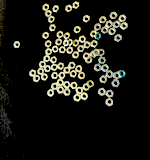nut: (112, 80, 121, 88), (106, 90, 115, 98), (106, 98, 114, 107), (100, 75, 108, 84), (102, 64, 110, 73), (94, 64, 103, 72), (87, 80, 95, 89), (119, 15, 127, 23), (121, 22, 129, 30), (115, 34, 123, 42), (114, 21, 122, 29), (110, 12, 118, 20), (106, 20, 114, 28), (100, 16, 108, 24), (91, 40, 99, 48), (119, 70, 127, 78), (99, 88, 107, 96), (99, 57, 107, 65), (83, 84, 91, 92), (81, 93, 89, 101), (76, 87, 84, 95), (74, 94, 82, 102), (78, 72, 86, 80), (70, 70, 78, 78), (71, 82, 79, 90), (57, 79, 65, 87), (33, 75, 41, 83), (107, 70, 114, 79), (73, 1, 80, 10), (109, 28, 117, 35), (114, 72, 121, 80), (98, 49, 105, 57), (94, 49, 101, 57), (91, 51, 98, 59), (86, 57, 94, 64), (83, 53, 91, 60), (84, 41, 91, 49), (84, 15, 91, 23), (66, 5, 73, 13), (79, 36, 87, 43), (78, 45, 86, 52), (73, 39, 80, 47), (74, 26, 81, 34), (76, 65, 83, 73), (63, 82, 71, 89), (64, 89, 72, 96), (57, 87, 65, 94), (52, 83, 59, 91), (48, 89, 55, 97), (59, 72, 66, 80), (59, 47, 67, 54), (53, 5, 60, 13), (49, 25, 57, 32), (56, 38, 63, 46), (52, 46, 60, 53), (45, 40, 52, 48), (46, 48, 53, 56), (51, 64, 58, 72), (52, 72, 59, 80), (44, 55, 51, 63), (44, 65, 51, 73), (41, 74, 49, 81), (39, 61, 47, 68), (102, 27, 109, 34), (95, 24, 102, 31), (95, 33, 102, 40), (91, 31, 98, 38), (73, 52, 80, 59), (69, 62, 76, 69), (64, 67, 71, 74), (67, 47, 74, 54), (64, 33, 71, 40), (63, 40, 70, 47), (43, 4, 50, 11), (43, 32, 50, 39), (58, 63, 65, 70), (51, 57, 58, 64), (38, 68, 45, 75), (30, 70, 37, 77), (14, 41, 21, 48), (68, 39, 74, 47), (49, 16, 55, 24), (58, 31, 64, 39), (46, 10, 52, 17)
